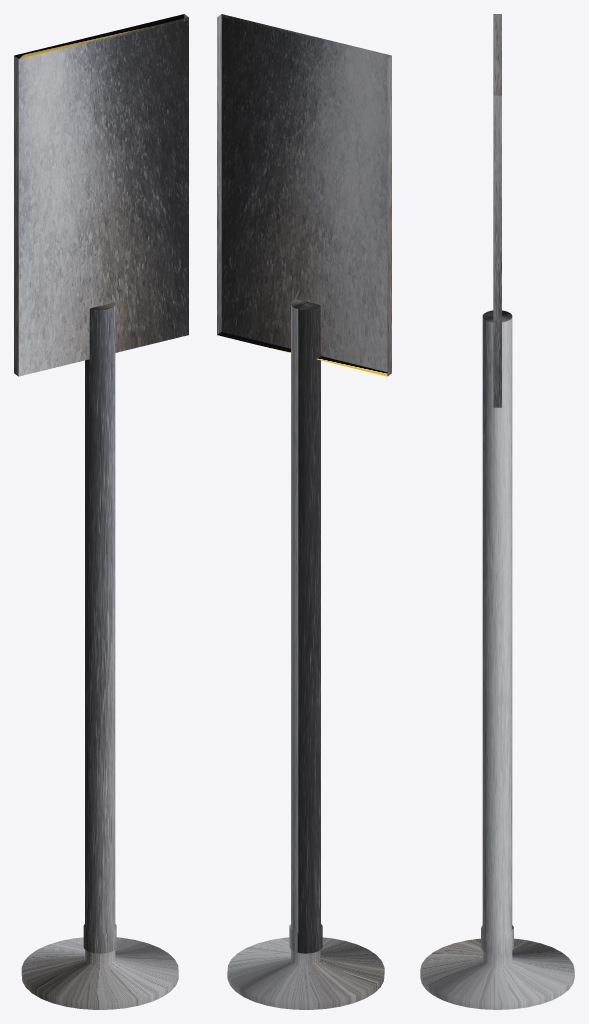
Rendered from Trafficsignal3.fbx.
The picture shows the model from 3 angles, left to right: view 1: azimuth 30°, elevation 25°; view 2: azimuth 150°, elevation 25°; view 3: azimuth 270°, elevation 25°; orthographic projection.
Parts seen in each view (by area): view 1: Trafficsignal3; view 2: Trafficsignal3; view 3: Trafficsignal3.
Part boxes in pixels (left/top/right/bottom): Trafficsignal3: left=14, top=14, right=188, bottom=1009; Trafficsignal3: left=217, top=14, right=391, bottom=1009; Trafficsignal3: left=420, top=14, right=574, bottom=1009.
Size of the model in its own units: 90.76 by 479 by 72.6.
Materials: 2 (2 with a texture image).
